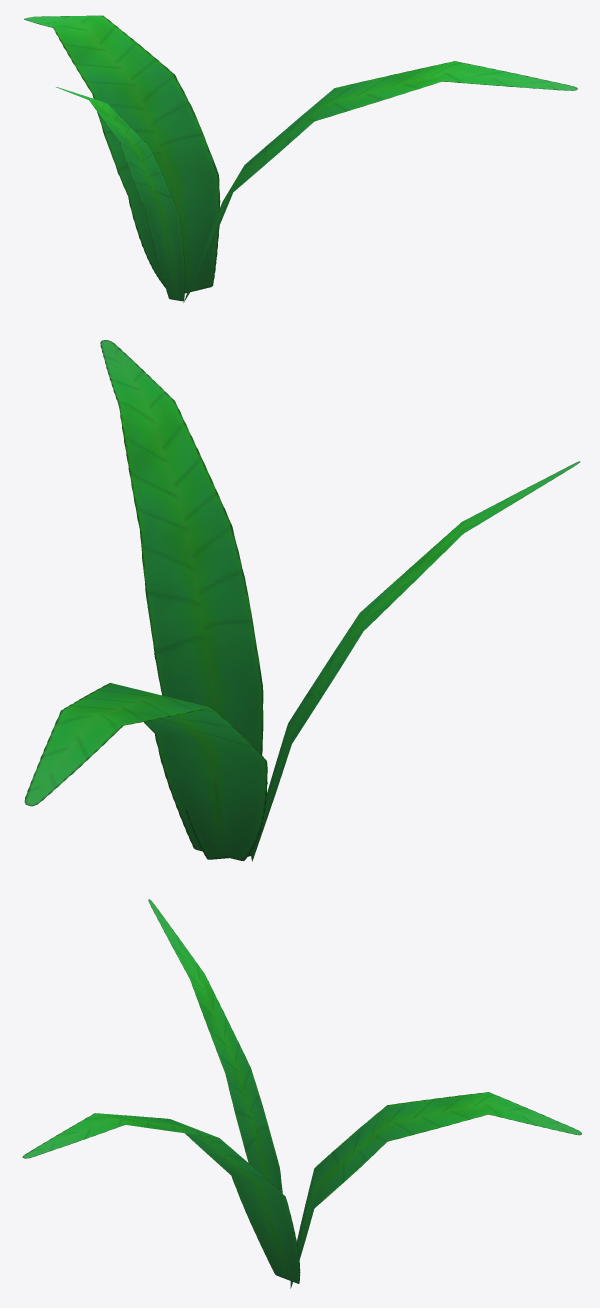
File: S_Grass.fbx
3 views of the same model, one above another, from view 1: azimuth 30°, elevation 25°; view 2: azimuth 150°, elevation 25°; view 3: azimuth 270°, elevation 25° (orthographic). The views are drawn at different scales.
Parts seen in each view (by area): view 1: S_foliage_grass; view 2: S_foliage_grass; view 3: S_foliage_grass.
Boxes of the visible parts, <box> form: S_foliage_grass: <box>24,15,577,302</box>; S_foliage_grass: <box>24,340,580,861</box>; S_foliage_grass: <box>22,899,581,1288</box>.
Bounding box in the file's own units: 40.85 × 47.39 × 26.63.
